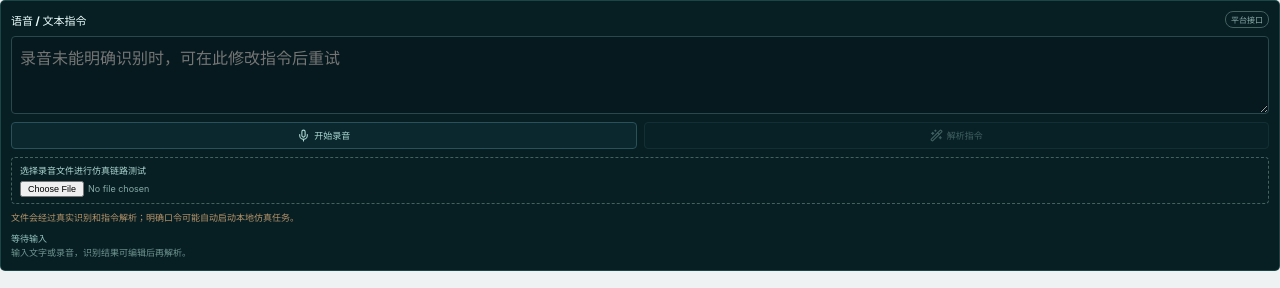
VoiceIntelligenceInput › manual input with speech automation enabled (refined=false) › rejects a mismatched interpretation ID before exposing a candidate or recording an interpretation
In the text box with placeholder "录音未能明确识别时，可在此修改指令后重试": (640, 75) [11,36,1269,114], type "开始任务"
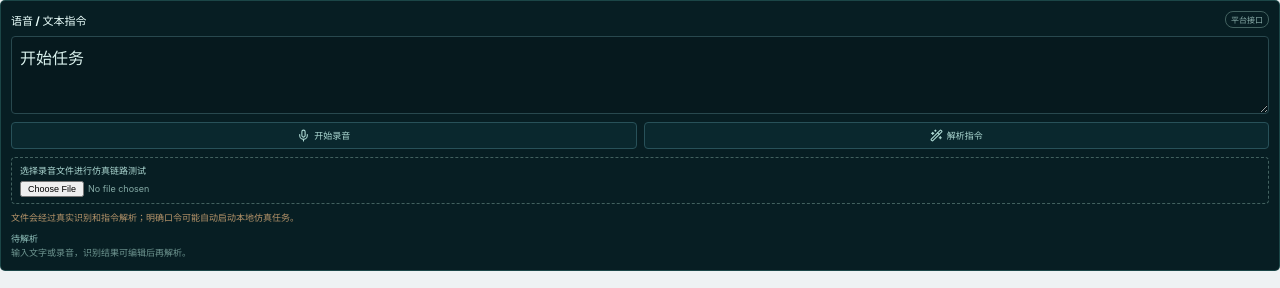
Click the button "解析指令": (956, 136) [644,122,1269,149]
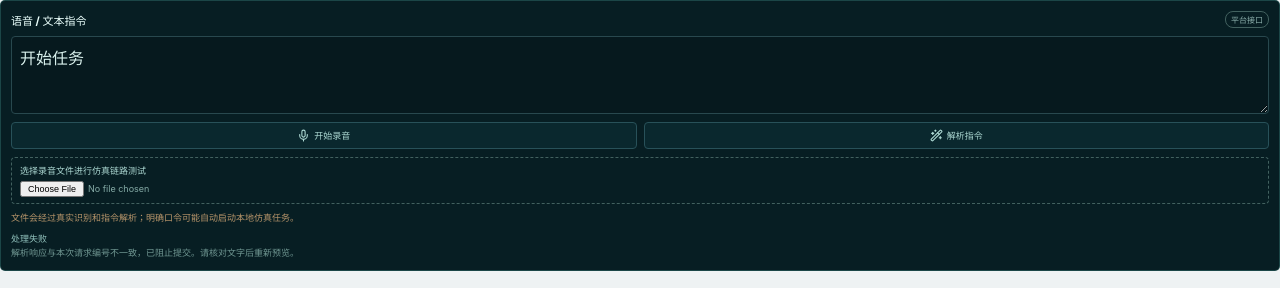
expect the text "请求编号不一致" is shown: met, box [11,247,299,258]
